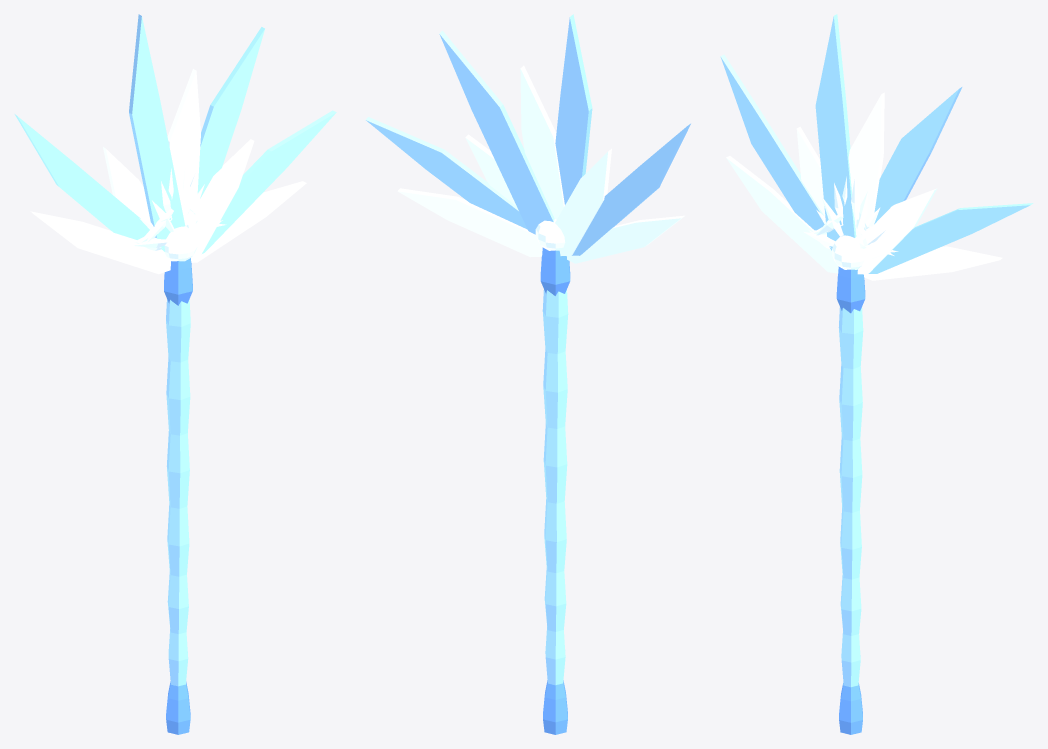
File: staff_frostfan.glb
The picture shows the model from 3 angles, left to right: view 1: azimuth 30°, elevation 25°; view 2: azimuth 150°, elevation 25°; view 3: azimuth 330°, elevation 25°; orthographic projection. The views are drawn at different scales.
Visible parts, largest first — view 1: Ff_Shaft, Ff_Plume3, Ff_Plume1, Ff_Plume5, Ff_Plume7, Ff_Plume0, Ff_Plume4, Ff_Plume6, Ff_Plume8, Ff_Plume2, Ff_Butt, Ff_Neck (+1 smaller); view 2: Ff_Shaft, Ff_Plume5, Ff_Plume3, Ff_Plume7, Ff_Plume1, Ff_Plume4, Ff_Plume8, Ff_Plume2, Ff_Plume0, Ff_Butt, Ff_Neck, Ff_Plume6 (+1 smaller); view 3: Ff_Shaft, Ff_Plume3, Ff_Plume1, Ff_Plume5, Ff_Plume7, Ff_Plume0, Ff_Plume4, Ff_Plume6, Ff_Plume8, Ff_Plume2, Ff_Neck, Ff_Butt (+1 smaller).
Boxes of the visible parts, left/top/right/bottom form: Ff_Shaft: left=166, top=299, right=190, bottom=686; Ff_Plume3: left=129, top=14, right=185, bottom=251; Ff_Plume1: left=14, top=114, right=149, bottom=239; Ff_Plume5: left=197, top=27, right=264, bottom=198; Ff_Plume7: left=202, top=110, right=336, bottom=253; Ff_Plume0: left=30, top=211, right=170, bottom=274; Ff_Plume4: left=167, top=69, right=200, bottom=225; Ff_Plume6: left=189, top=139, right=254, bottom=260; Ff_Plume8: left=191, top=181, right=306, bottom=262; Ff_Plume2: left=103, top=147, right=150, bottom=222; Ff_Butt: left=166, top=681, right=190, bottom=734; Ff_Neck: left=164, top=258, right=192, bottom=305; Ff_Shaft: left=542, top=290, right=568, bottom=684; Ff_Plume5: left=439, top=30, right=554, bottom=234; Ff_Plume3: left=555, top=14, right=592, bottom=204; Ff_Plume7: left=366, top=117, right=527, bottom=229; Ff_Plume1: left=572, top=123, right=690, bottom=255; Ff_Plume4: left=520, top=65, right=564, bottom=219; Ff_Plume8: left=397, top=188, right=542, bottom=257; Ff_Plume2: left=555, top=148, right=611, bottom=255; Ff_Plume0: left=566, top=215, right=684, bottom=263; Ff_Butt: left=543, top=680, right=567, bottom=734; Ff_Neck: left=540, top=247, right=570, bottom=295; Ff_Plume6: left=465, top=134, right=516, bottom=205; Ff_Shaft: left=838, top=307, right=863, bottom=686; Ff_Plume3: left=815, top=14, right=856, bottom=250; Ff_Plume1: left=720, top=54, right=824, bottom=230; Ff_Plume5: left=874, top=87, right=962, bottom=224; Ff_Plume7: left=868, top=203, right=1033, bottom=273; Ff_Plume0: left=726, top=156, right=838, bottom=273; Ff_Plume4: left=848, top=92, right=884, bottom=238; Ff_Plume6: left=857, top=188, right=937, bottom=274; Ff_Plume8: left=863, top=246, right=1002, bottom=280; Ff_Plume2: left=796, top=126, right=825, bottom=216; Ff_Neck: left=836, top=266, right=865, bottom=313; Ff_Butt: left=839, top=683, right=862, bottom=734.
Bounding box in the file's own units: 1.27 × 2.73 × 0.1886.
